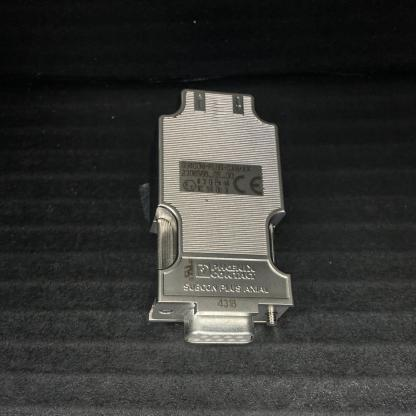SP0000010: (107, 63, 324, 368)
